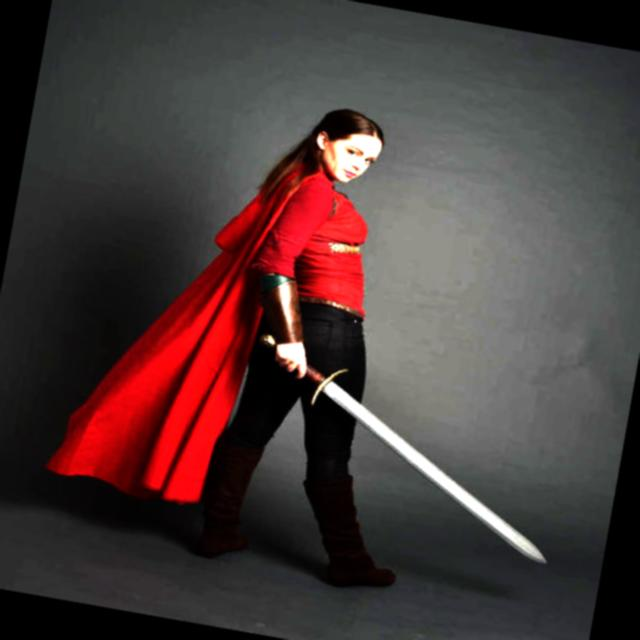long sword: (212, 316, 593, 567)
